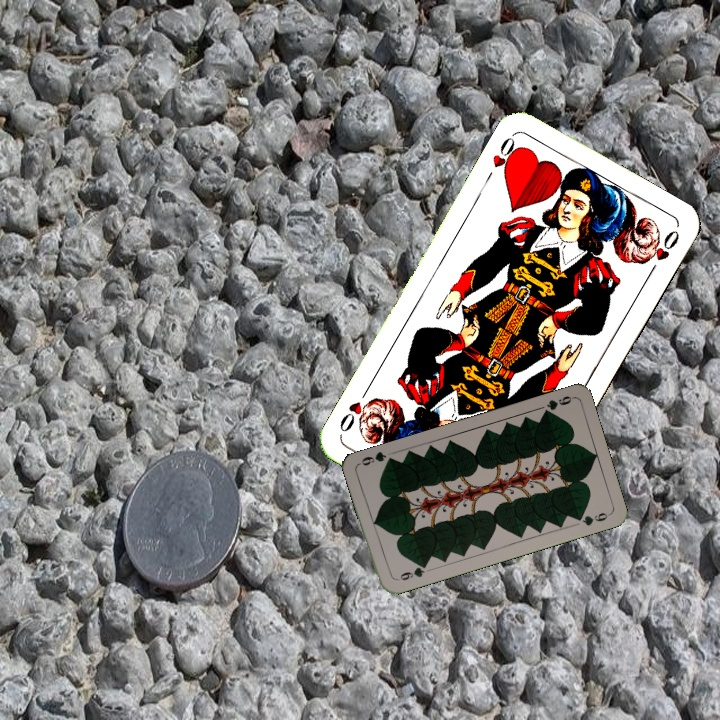G9: (538, 392, 576, 418), (392, 560, 430, 583)
HO: (488, 131, 524, 179)
